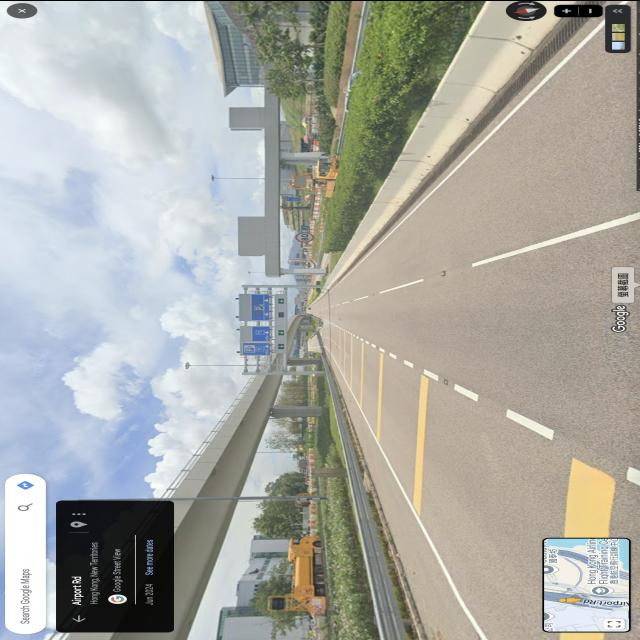Direction-Sign: (252, 293, 272, 319), (252, 325, 271, 340), (243, 343, 271, 353)
Order-Sign: (294, 232, 316, 242)
